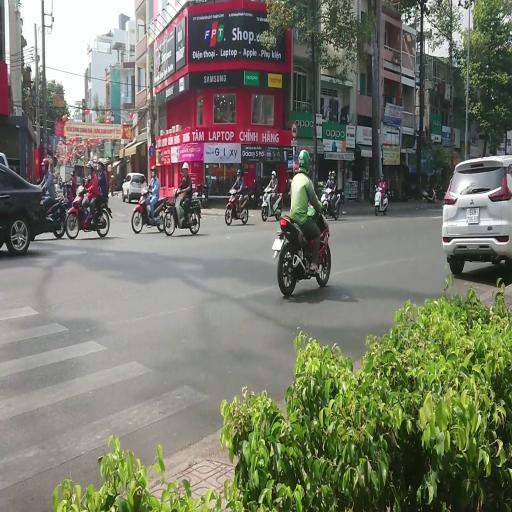bikes: (272, 202, 331, 296), (1, 182, 68, 255), (64, 186, 110, 239), (131, 187, 172, 234), (36, 182, 68, 238), (164, 188, 200, 236), (225, 188, 249, 225), (260, 187, 282, 221), (320, 186, 341, 220), (374, 184, 388, 216), (248, 179, 262, 208), (196, 183, 208, 207), (422, 188, 437, 204), (283, 178, 292, 204), (434, 182, 444, 198)
helmet: (298, 149, 309, 173), (76, 186, 84, 196), (41, 158, 49, 166), (97, 158, 105, 166), (86, 161, 93, 168), (141, 188, 148, 195), (182, 162, 188, 170), (87, 166, 93, 174), (150, 165, 156, 172), (104, 157, 110, 164), (70, 171, 76, 177), (271, 170, 276, 177), (237, 169, 241, 176), (380, 174, 384, 181), (331, 171, 335, 178), (328, 171, 332, 178), (87, 174, 91, 180), (382, 182, 386, 188), (90, 165, 94, 171), (110, 174, 114, 179), (374, 184, 377, 190)
